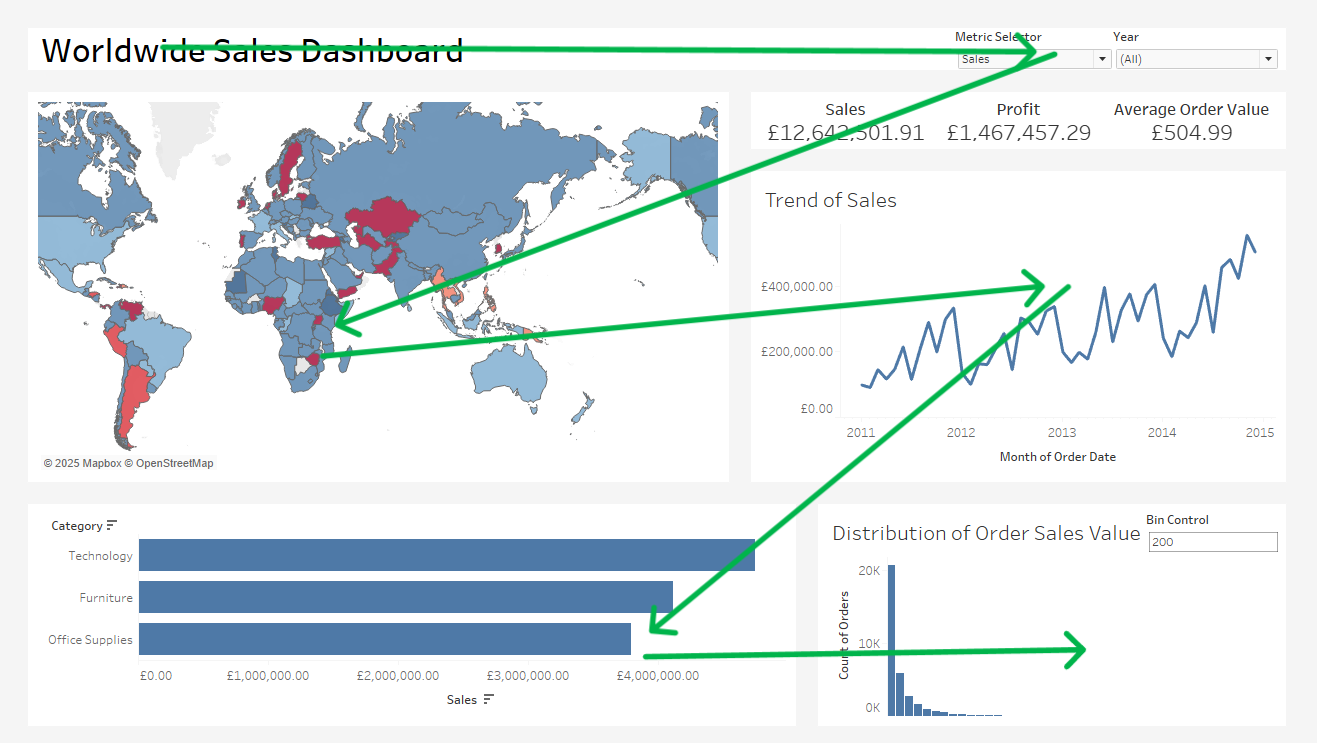

This screenshot's page, from the dashboard's own definition file:
{"tool":"tableau","page":{"name":"Dashboard Final ","canvas":[1280,720],"ordinal":0},"visuals":[{"type":"text","box":[0,0,1280,64]},{"type":"parameter","param":"[Parameters].[Parameter 2]","box":[938,11,160,48]},{"type":"filter","title":"Trend of profit or sales","param":"[federated.0btv2od0czriyw11jt19s1bigyv6].[yr:Order Date:ok]","box":[1096,11,168,49]},{"type":"worksheet","title":"KPIs","mark":"Text","box":[723,64,557,79]},{"type":"worksheet","title":"Profit Ratio by Country","mark":"Automatic","box":[21,85,680,370]},{"type":"worksheet","title":"Profit Ratio by State","mark":"Automatic","box":[701,85,1,370]},{"type":"worksheet","title":"Trend of profit or sales","mark":"Automatic","rows":["Calculation_1125967248420864"],"cols":["Order Date"],"box":[723,143,557,333]},{"type":"worksheet","title":"Profit and Sales by Category","mark":"Automatic","rows":["Category"],"cols":["Calculation_1125967248420864"],"box":[0,476,790,244]},{"type":"worksheet","title":"Distribution of Order Metric Value","mark":"Automatic","rows":["Order ID"],"cols":["Selected Metric (bin)"],"box":[790,476,490,244]},{"type":"parameter","param":"[Parameters].[Parameter 1]","box":[1129,494,135,44]}]}

Visuals, with their boxes in screenshot pixels (x1, y1, x2, y2), scaled from the page's 1280x720 canvas onto the 1317x743 screenshot:
text: 0:0:1316:66
parameter: 965:11:1130:61
"Trend of profit or sales" filter: 1128:11:1301:62
"KPIs" worksheet (Text marks): 744:66:1316:148
"Profit Ratio by Country" worksheet: 22:88:721:470
"Profit Ratio by State" worksheet: 721:88:722:470
"Trend of profit or sales" worksheet: 744:148:1316:491
"Profit and Sales by Category" worksheet: 0:491:813:742
"Distribution of Order Metric Value" worksheet: 813:491:1316:742
parameter: 1162:510:1301:555
